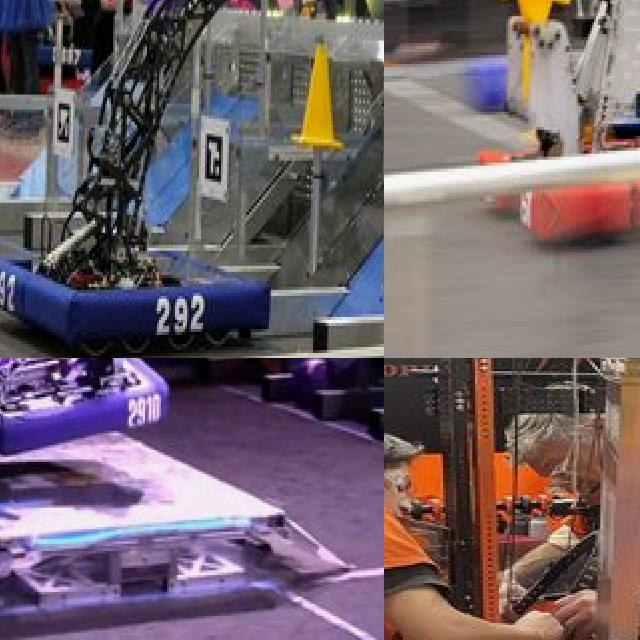FRC-Robots: (0, 0, 384, 325), (391, 358, 640, 640), (456, 0, 640, 252), (0, 358, 229, 480)
